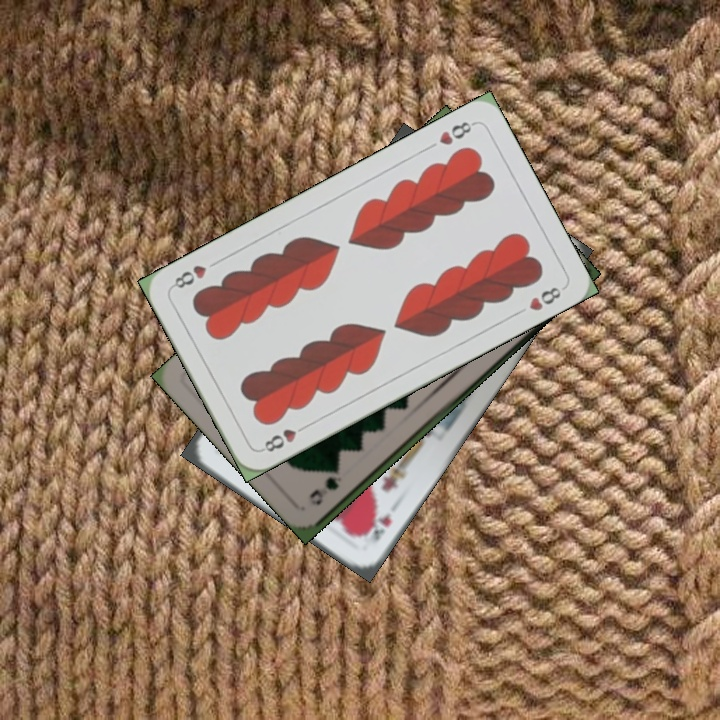G9: (306, 464, 345, 508)
H8: (257, 420, 311, 455), (435, 117, 478, 148)
HK: (360, 507, 395, 547)
